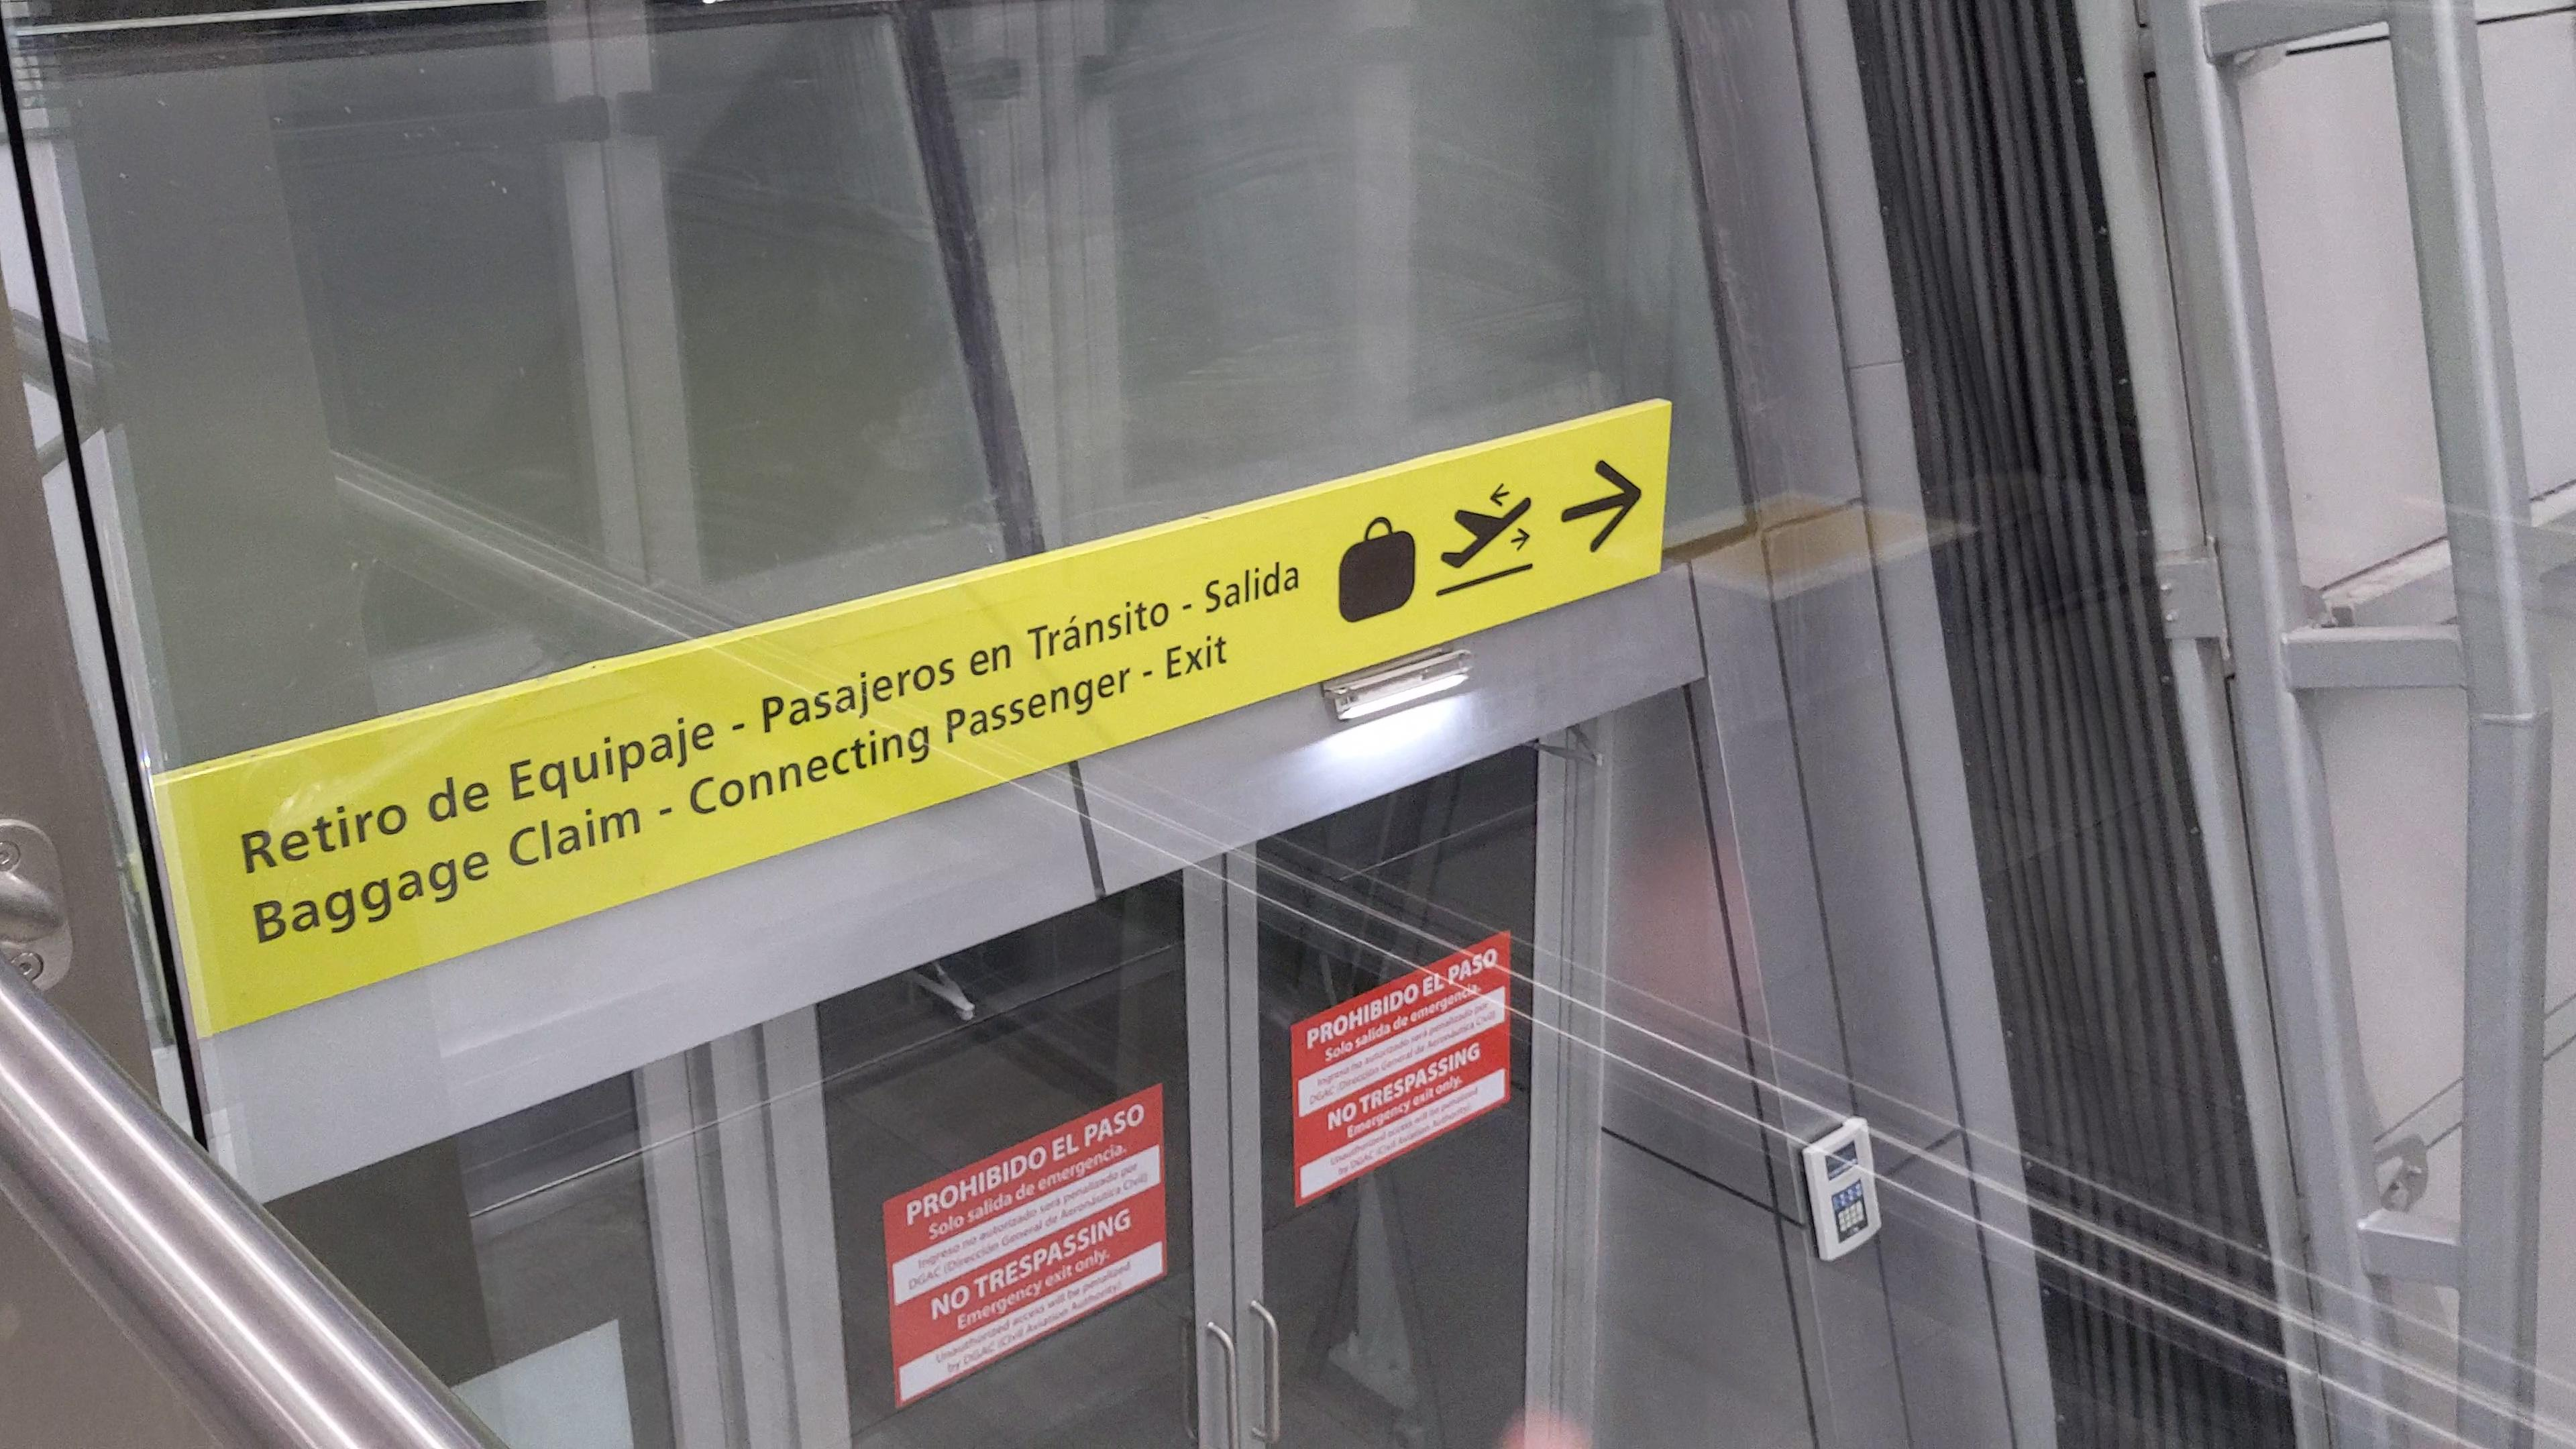airplane symbol: (1435, 483, 1534, 571)
baggage claim: (1336, 511, 1421, 626)
no trespassing: (883, 1074, 1175, 1417), (1284, 924, 1522, 1217)
thin right arrow: (1555, 453, 1647, 556)
